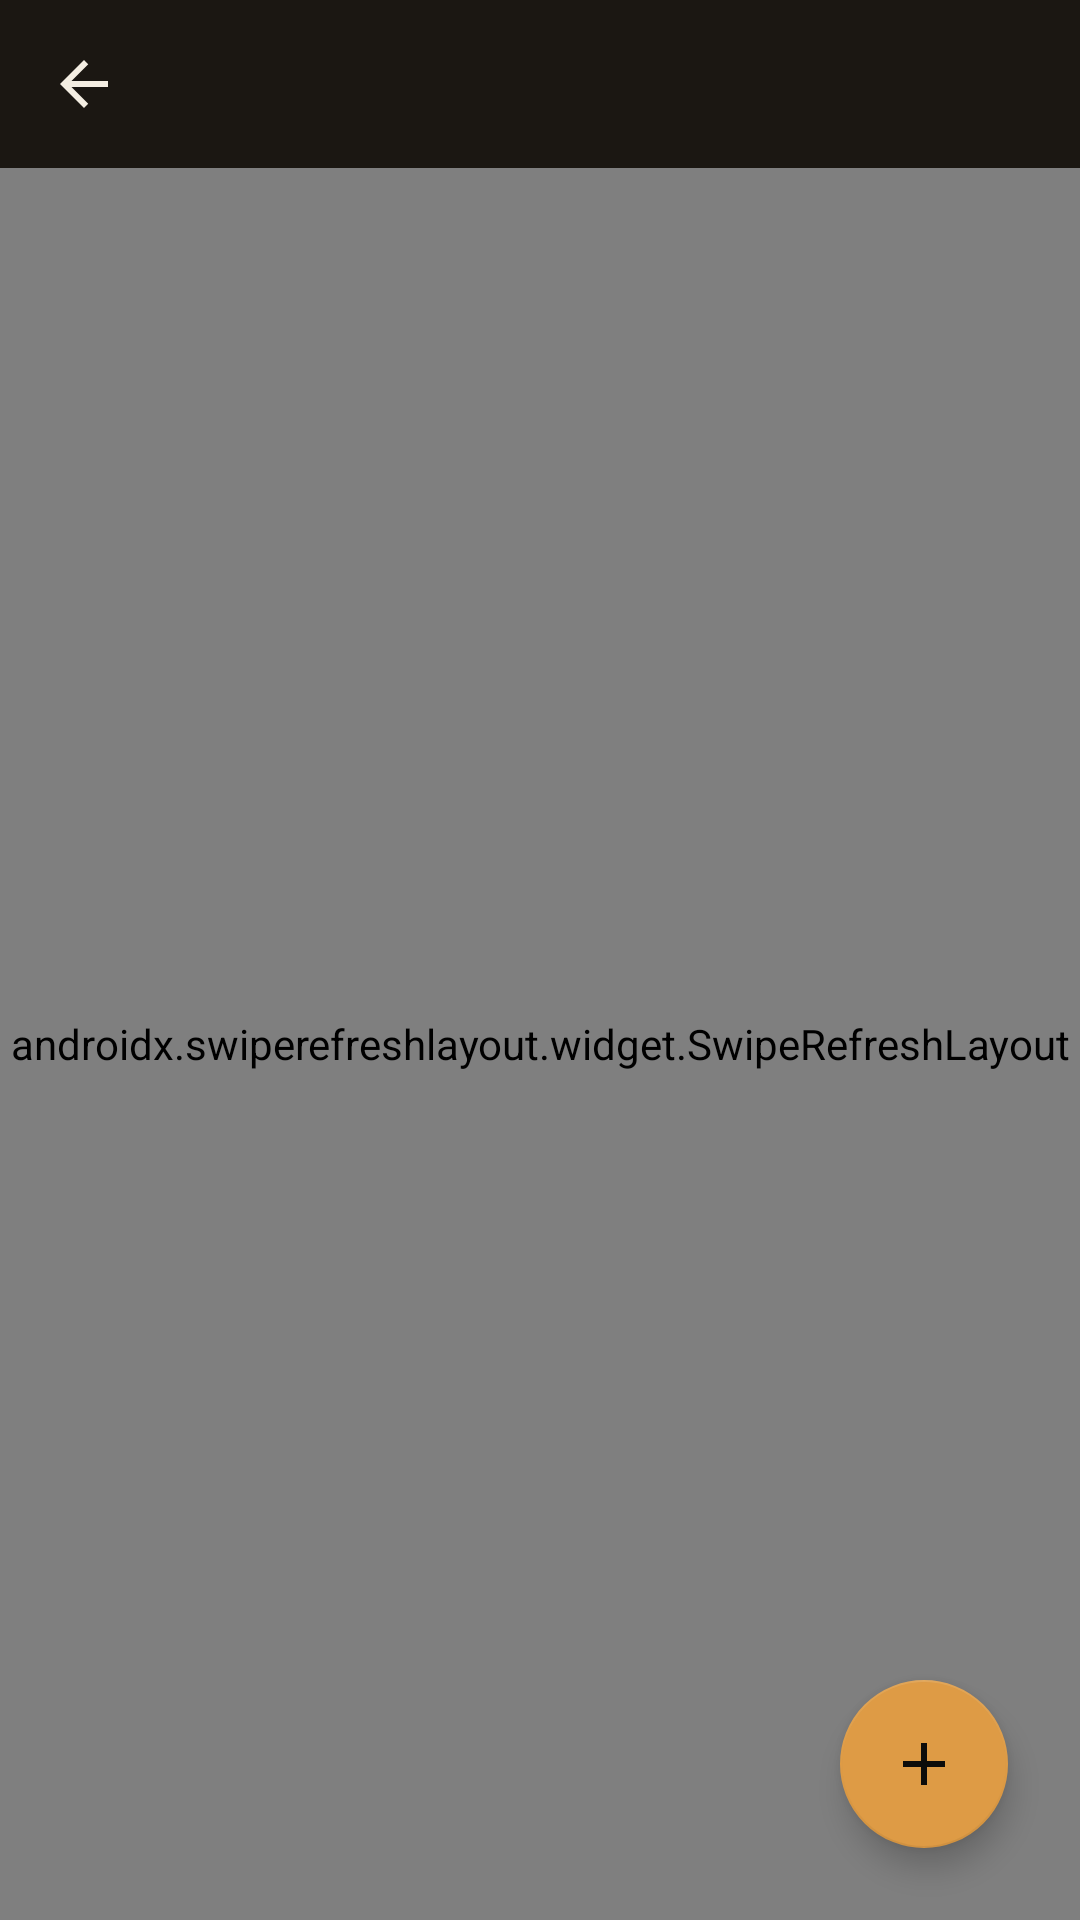

Point at icon controls on the screen. Image size 1080×1920, points as point (x, y).
Agregar nuevo: point (924, 1764)
